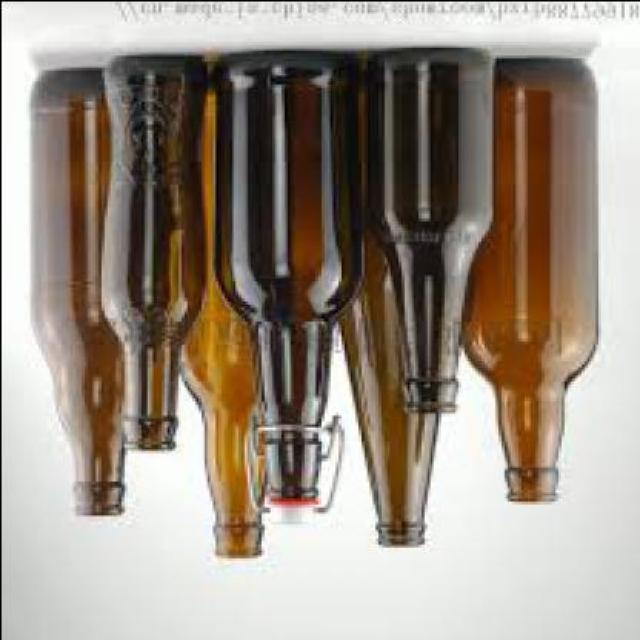GLASS: (208, 54, 361, 503), (457, 57, 594, 503), (366, 54, 488, 414), (28, 74, 123, 517), (177, 71, 263, 560), (97, 60, 197, 451), (338, 237, 445, 548)
PLASTIC: (262, 506, 308, 526)
